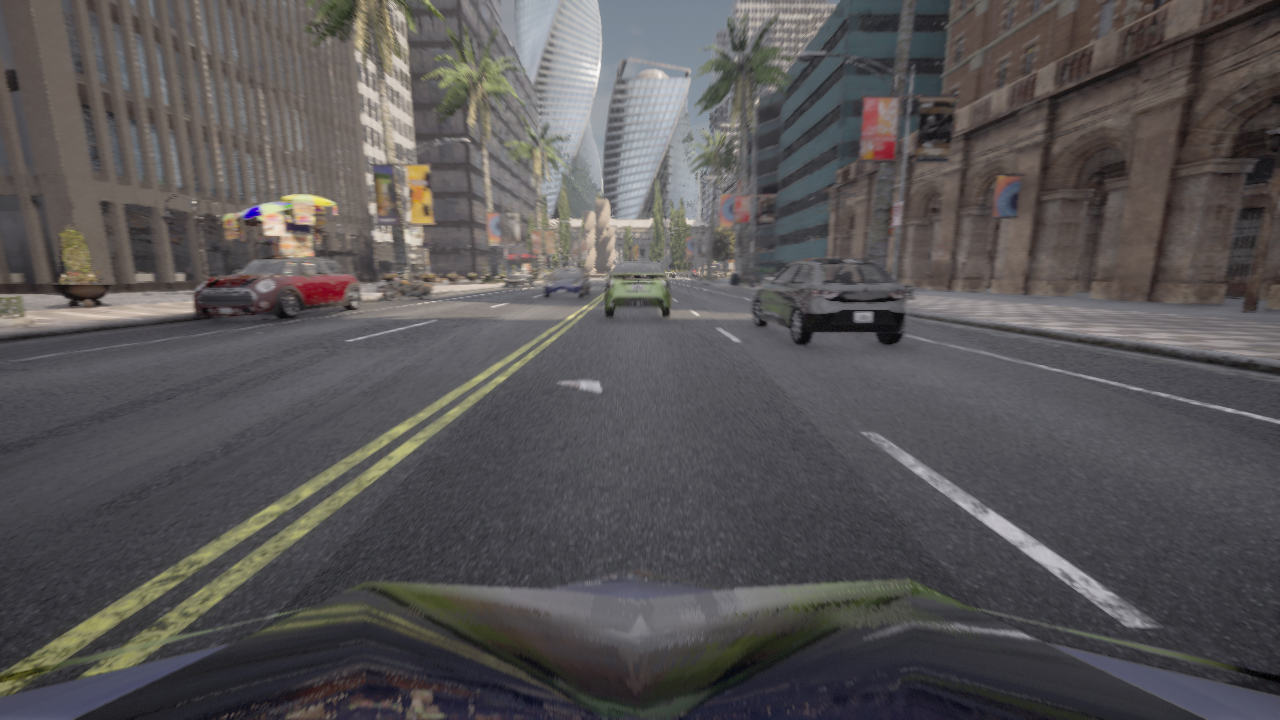cyclist: (0, 569, 1279, 719), (751, 259, 906, 344), (194, 257, 361, 319), (604, 262, 671, 317), (382, 272, 432, 301), (543, 268, 589, 298), (504, 270, 533, 287)
